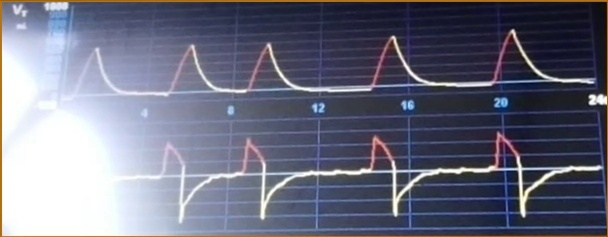Normal Flow: (90, 127, 604, 225)
Normal Volume: (67, 18, 590, 97)
